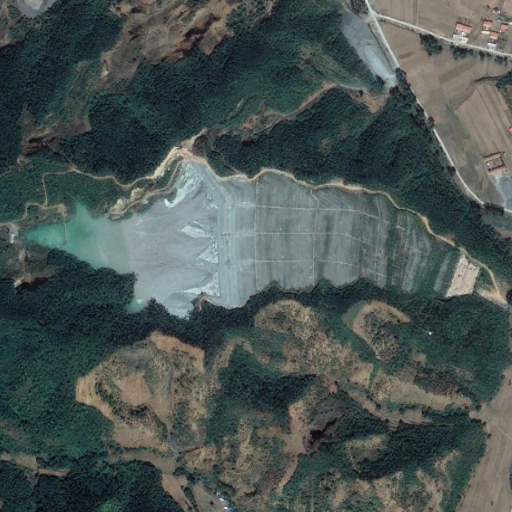tp: (25, 157, 478, 323)
